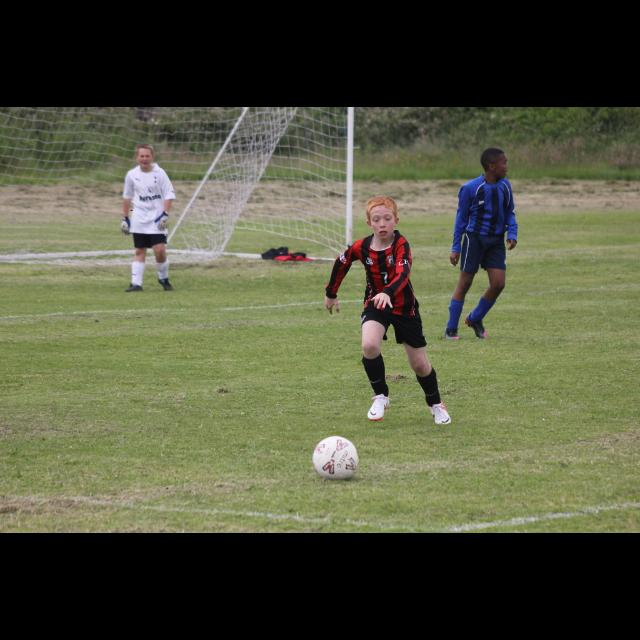Football: (310, 436, 360, 479)
